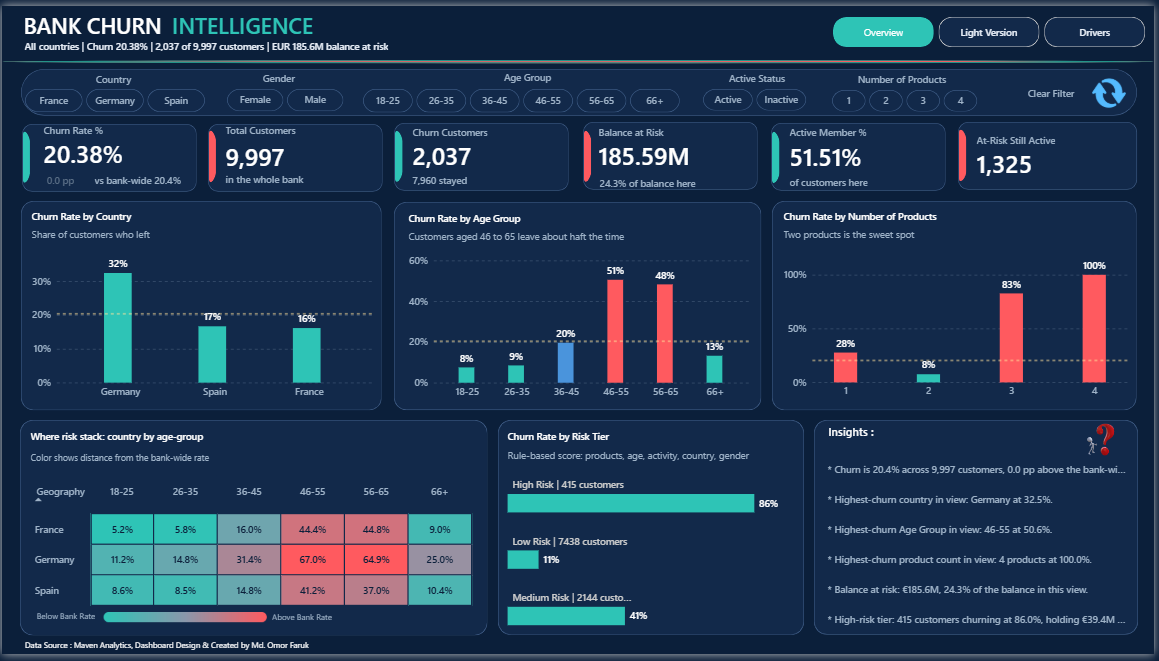

The dashboard page shown, as its layout file describes it:
{"tool":"powerbi","page":{"name":"Overview","canvas":[1920,1080],"ordinal":0},"visuals":[{"type":"shape","box":[31.1,105.6,1860,77.8],"z":0},{"type":"cardVisual","fields":{"Data":["_KPI_Label_Measure.1_6_Churn Delta Text"]},"box":[44.5,272.7,88.8,32],"z":0,"group":"g2"},{"type":"shape","box":[34,196,291.4,112.9],"z":1000},{"type":"cardVisual","fields":{"Data":["_KPI_Label_Measure.1_7_Bank Rate Text"]},"box":[137.6,272.9,188.2,32.7],"z":1000,"group":"g2"},{"type":"shape","box":[343,196,291.4,112.9],"z":2000},{"type":"shape","box":[44.3,1002.9,123.3,26.7],"z":2000,"group":"g1"},{"type":"shape","box":[654,195,291.4,112.9],"z":3000},{"type":"shape","box":[1282,195,291.4,112.9],"z":4000},{"type":"shape","box":[437,1005,123.3,26.7],"z":4000,"group":"g1"},{"type":"shape","box":[1593,193,298.6,112.9],"z":5000},{"type":"shape","box":[827.1,690,510,358.3],"z":6000},{"type":"image","box":[163,1010,283,17],"z":6000,"group":"g1"},{"type":"shape","box":[30,690,779.2,359.2],"z":7000},{"type":"shape","box":[31.2,325,601.2,348.8],"z":8000},{"type":"shape","box":[653.1,327.4,612.3,346.9],"z":9000},{"type":"pivotTable","title":"Where risk stack: country by age-group","fields":{"Columns":["BankChurn_Cleaned.AgeGroup"],"Rows":["BankChurn_Cleaned.Geography"],"Values":["_KPI_Measure.M4_Churn Rate %"]},"box":[31.7,690,774.2,356.7],"z":10000},{"type":"shape","box":[1283.8,325,607.5,348.8],"z":11000},{"type":"cardVisual","fields":{"Data":["_KPI_Measure.Churn Rate"]},"box":[53.6,195.5,256.4,77.3],"z":12000},{"type":"cardVisual","fields":{"Data":["_KPI_Measure.Total Customers"]},"box":[356.4,194.5,271.8,110.9],"z":13000},{"type":"cardVisual","fields":{"Data":["_KPI_Measure.Churn Customers"]},"box":[668.2,194.5,275.5,112.7],"z":14000},{"type":"cardVisual","fields":{"Data":["_Measures_KPI.M20_At-Risk Still Active"]},"box":[1608.8,193.8,271.2,110],"z":15000},{"type":"shape","box":[969,194,291.4,112.9],"z":16000},{"type":"cardVisual","fields":{"Data":["_KPI_Measure.Active Member %"]},"box":[1296.2,195,273.8,85],"z":17000},{"type":"columnChart","title":"Churn Rate by Country","fields":{"Category":["BankChurn_Cleaned.Geography"],"Y":["_KPI_Measure.M4_Churn Rate %"]},"box":[33.3,325,601.2,348.8],"z":18000},{"type":"columnChart","title":"Churn Rate by Age Group","fields":{"Category":["BankChurn_Cleaned.AgeGroup"],"Y":["_KPI_Measure.M4_Churn Rate %"]},"box":[661.1,327.8,598.9,345.6],"z":19000},{"type":"advancedSlicerVisual","fields":{"Values":["BankChurn_Cleaned.Gender"]},"box":[374.2,137.8,195,37.5],"z":20000},{"type":"columnChart","title":"Churn Rate by Number of Products","fields":{"Category":["BankChurn_Cleaned.NumOfProducts"],"Y":["_KPI_Measure.M4_Churn Rate %"]},"box":[1286.7,325,605,348.3],"z":21000},{"type":"advancedSlicerVisual","fields":{"Values":["BankChurn_Cleaned.AgeGroup"]},"box":[601.7,137.5,528.6,40],"z":22000},{"type":"advancedSlicerVisual","fields":{"Values":["BankChurn_Cleaned.ActiveStatus"]},"box":[1168.9,138,173.8,36.6],"z":23000},{"type":"clusteredBarChart","title":"Churn Rate by Risk Tier","fields":{"Category":["BankChurn_Cleaned.CC_Risk Tier"],"Y":["_Measure_Subtitle.Placeholder","_Measures_KPI.M4_Churn Rate %"]},"box":[826.7,696.7,510,351.7],"z":24000},{"type":"cardVisual","fields":{"Data":["_Subtitle_Measure.2_Dashboard Subtitle"]},"box":[21.7,41.7,668.3,48.3],"z":25000},{"type":"advancedSlicerVisual","fields":{"Values":["BankChurn_Cleaned.NumOfProducts"]},"box":[1384,140.4,242.3,36.6],"z":26000},{"type":"shape","box":[1352.9,690,540,357.9],"z":27000},{"type":"group","id":"g1","title":"Group 2","box":[44.3,1002.9,516,28.8],"z":28000},{"type":"advancedSlicerVisual","fields":{"Values":["BankChurn_Cleaned.Geography"]},"box":[38.1,137.8,300,38.8],"z":29000},{"type":"textbox","box":[1352.9,697.1,123.3,33.3],"z":30000},{"type":"group","id":"g2","title":"Group 1","box":[44.5,272.7,281.3,33],"z":31000},{"type":"cardVisual","fields":{"Data":["_Measures_KPI_Label.5_Text"]},"box":[1296.2,280,271.2,27.5],"z":32000},{"type":"cardVisual","fields":{"Data":["_Measures_KPI.M7_Balance at Risk"]},"box":[979.1,195.5,279.1,84.5],"z":33000},{"type":"cardVisual","fields":{"Data":["_Measures_KPI_Label.4_% of Balance here"]},"box":[980,280.9,285.5,27.3],"z":34000},{"type":"textbox","box":[142.8,111.8,84.8,27.1],"z":35000},{"type":"textbox","box":[420.7,109.3,82.6,27.9],"z":36000},{"type":"textbox","box":[816.6,108.8,118.4,27.9],"z":37000},{"type":"textbox","box":[1191.2,109.8,133.2,27.8],"z":38000},{"type":"shape","box":[0,6.1,301.4,50],"z":39000},{"type":"shape","box":[280,6.1,241.4,50],"z":40000},{"type":"textbox","box":[1412.1,111.9,176.2,27],"z":41000},{"type":"cardVisual","fields":{"Data":["_Measure_Insights.Insight 1 Churn","_Measure_Insights.Insight 2 Top Country","_Measure_Insights.Insight 3 Top Age_Group","_Measure_Insights.Insight 4 Top Product_Count","_Measure_Insights.Insight 5 Balance","_Measure_Insights.Insight 6 High Tier"]},"box":[1360,750,530,297.1],"z":42000},{"type":"shape","box":[0,90,1920,5.7],"z":43000},{"type":"shape","box":[31.1,1050,761.1,30],"z":44000},{"type":"pageNavigator","box":[1385,17.5,521.7,50],"z":45000},{"type":"image","box":[1810,116.7,70,56.7],"z":46000},{"type":"shape","box":[1686.7,123.3,123.3,43.3],"z":47000},{"type":"image","box":[1782.9,694.3,97.1,55.7],"z":48000},{"type":"shape","box":[344.6,203.8,11.5,94.6],"z":49000},{"type":"shape","box":[35.4,205.4,11.5,93.8],"z":50000},{"type":"shape","box":[970.5,202.6,12.1,94.2],"z":51000},{"type":"shape","box":[655.5,203.6,12.7,94.5],"z":52000},{"type":"shape","box":[1594.6,201.5,12.3,94.6],"z":53000},{"type":"shape","box":[1283.7,205.3,12.6,94.7],"z":54000}]}

Visuals, with their boxes in screenshot pixels (x1, y1, x2, y2), scaled from the page's 1920x1080 canvas onto the 1159x661 screenshot:
shape: (19,65,1142,112)
cardVisual - _KPI_Label_Measure.1_6_Churn Delta Text: (27,167,80,186)
shape: (21,120,196,189)
cardVisual - _KPI_Label_Measure.1_7_Bank Rate Text: (83,167,197,187)
shape: (207,120,383,189)
shape: (27,614,101,630)
shape: (395,119,571,188)
shape: (774,119,950,188)
shape: (264,615,338,631)
shape: (962,118,1142,187)
shape: (499,422,807,642)
image: (98,618,269,629)
shape: (18,422,488,642)
shape: (19,199,382,412)
shape: (394,200,764,413)
"Where risk stack: country by age-group" pivotTable: (19,422,486,641)
shape: (775,199,1142,412)
cardVisual - _KPI_Measure.Churn Rate: (32,120,187,167)
cardVisual - _KPI_Measure.Total Customers: (215,119,379,187)
cardVisual - _KPI_Measure.Churn Customers: (403,119,570,188)
cardVisual - _Measures_KPI.M20_At-Risk Still Active: (971,119,1135,186)
shape: (585,119,761,188)
cardVisual - _KPI_Measure.Active Member %: (782,119,948,171)
"Churn Rate by Country" columnChart: (20,199,383,412)
"Churn Rate by Age Group" columnChart: (399,201,761,412)
advancedSlicerVisual - BankChurn_Cleaned.Gender: (226,84,344,107)
"Churn Rate by Number of Products" columnChart: (777,199,1142,412)
advancedSlicerVisual - BankChurn_Cleaned.AgeGroup: (363,84,682,109)
advancedSlicerVisual - BankChurn_Cleaned.ActiveStatus: (706,84,811,107)
"Churn Rate by Risk Tier" clusteredBarChart: (499,426,807,642)
cardVisual - _Subtitle_Measure.2_Dashboard Subtitle: (13,26,417,55)
advancedSlicerVisual - BankChurn_Cleaned.NumOfProducts: (835,86,982,108)
shape: (817,422,1143,641)
"Group 2" group: (27,614,338,631)
advancedSlicerVisual - BankChurn_Cleaned.Geography: (23,84,204,108)
textbox: (817,427,891,447)
"Group 1" group: (27,167,197,187)
cardVisual - _Measures_KPI_Label.5_Text: (782,171,946,188)
cardVisual - _Measures_KPI.M7_Balance at Risk: (591,120,760,171)
cardVisual - _Measures_KPI_Label.4_% of Balance here: (592,172,764,189)
textbox: (86,68,137,85)
textbox: (254,67,304,84)
textbox: (493,67,564,84)
textbox: (719,67,799,84)
shape: (0,4,182,34)
shape: (169,4,315,34)
textbox: (852,68,959,85)
cardVisual - _Measure_Insights.Insight 1 Churn x _Measure_Insights.Insight 2 Top Country: (821,459,1141,641)
shape: (0,55,1158,59)
shape: (19,643,478,660)
pageNavigator: (836,11,1151,41)
image: (1093,71,1135,106)
shape: (1018,75,1093,102)
image: (1076,425,1135,459)
shape: (208,125,215,183)
shape: (21,126,28,183)
shape: (586,124,593,182)
shape: (396,125,403,182)
shape: (963,123,970,181)
shape: (775,126,783,184)
